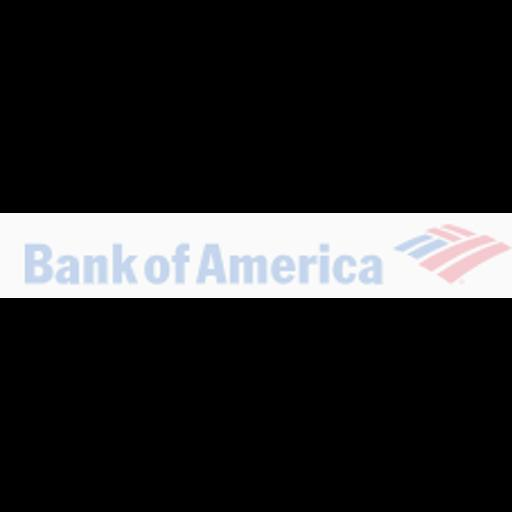Bank of America: (0, 213, 512, 298)
